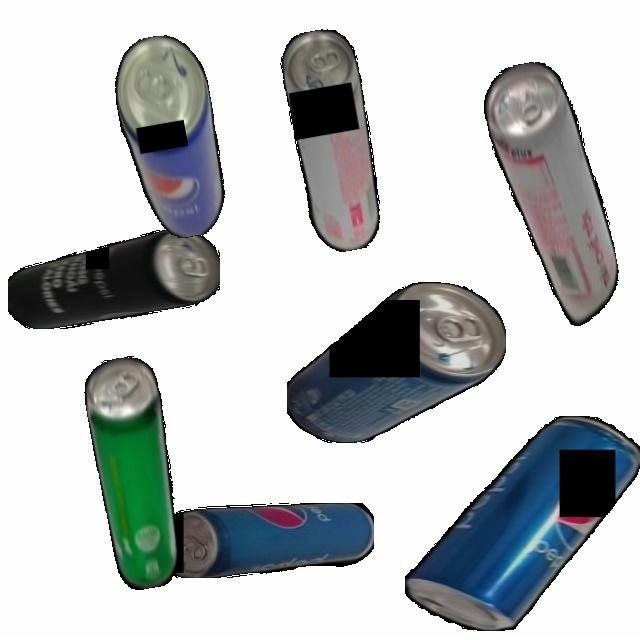debris: (404, 416, 640, 631), (478, 54, 626, 335), (286, 282, 506, 443), (79, 352, 193, 593), (107, 29, 233, 245), (276, 25, 390, 256), (7, 230, 220, 329), (158, 502, 374, 578)
